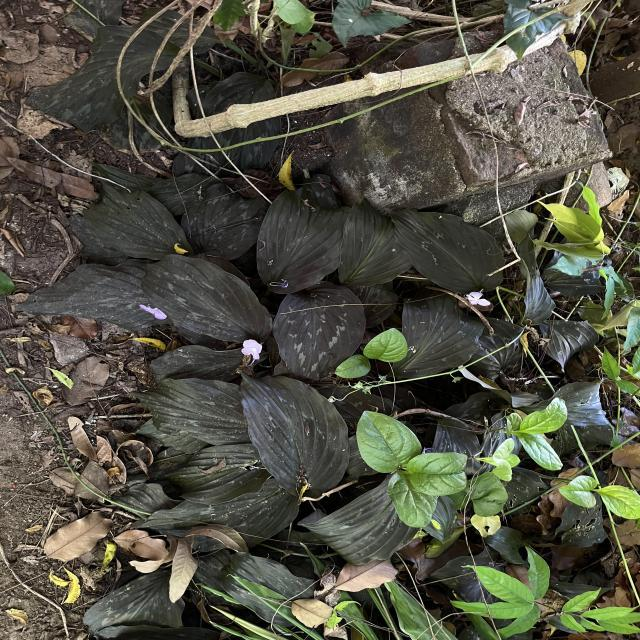Kaempferia galanga linn: (235, 366, 352, 502), (137, 252, 276, 348), (382, 201, 510, 296), (254, 182, 354, 296), (270, 277, 368, 383), (125, 374, 254, 448), (336, 195, 415, 292)
